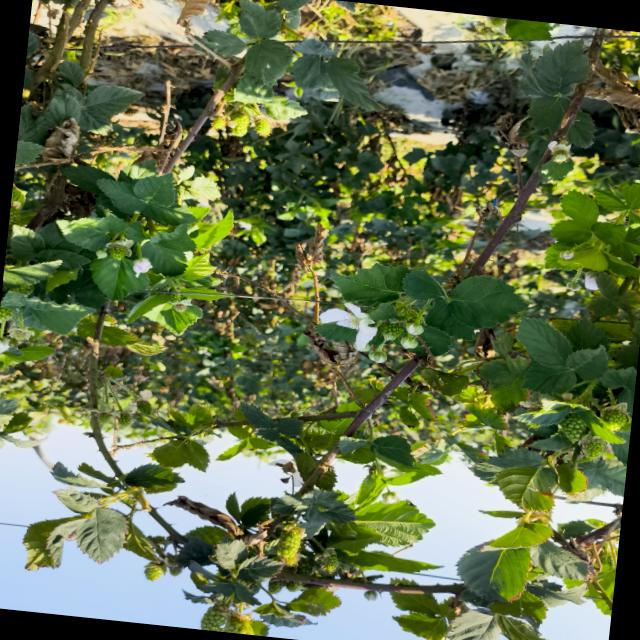boton: (368, 350, 386, 363), (400, 336, 418, 349), (405, 322, 423, 334), (96, 249, 107, 258)
flor: (132, 257, 151, 277)
verde: (277, 525, 304, 565), (559, 414, 587, 441)
